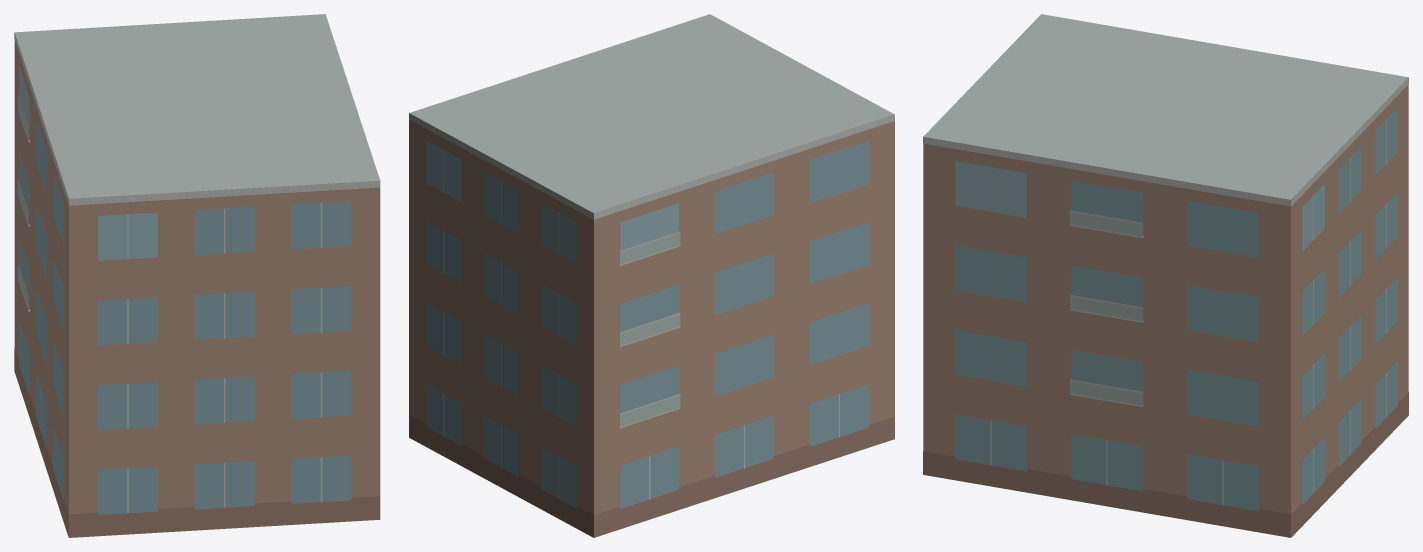
The model's file is residential-24ba7203-7f8d-4b22-b184-d95ddba5916e.glb.
3 views of the same model, side by side, from view 1: azimuth 30°, elevation 25°; view 2: azimuth 150°, elevation 25°; view 3: azimuth 270°, elevation 25° (orthographic). The views are drawn at different scales.
Visible parts, largest first — view 1: residential-24ba7203-7f8d-4b22-b184-d95ddba5916e.tmp; view 2: residential-24ba7203-7f8d-4b22-b184-d95ddba5916e.tmp; view 3: residential-24ba7203-7f8d-4b22-b184-d95ddba5916e.tmp.
Boxes of the visible parts, x1,y1,x2,y2 form: residential-24ba7203-7f8d-4b22-b184-d95ddba5916e.tmp: (14,14,380,537); residential-24ba7203-7f8d-4b22-b184-d95ddba5916e.tmp: (409,14,894,537); residential-24ba7203-7f8d-4b22-b184-d95ddba5916e.tmp: (923,14,1408,537).
Bounding box in the file's own units: 14.4 × 12.2 × 15.9.
